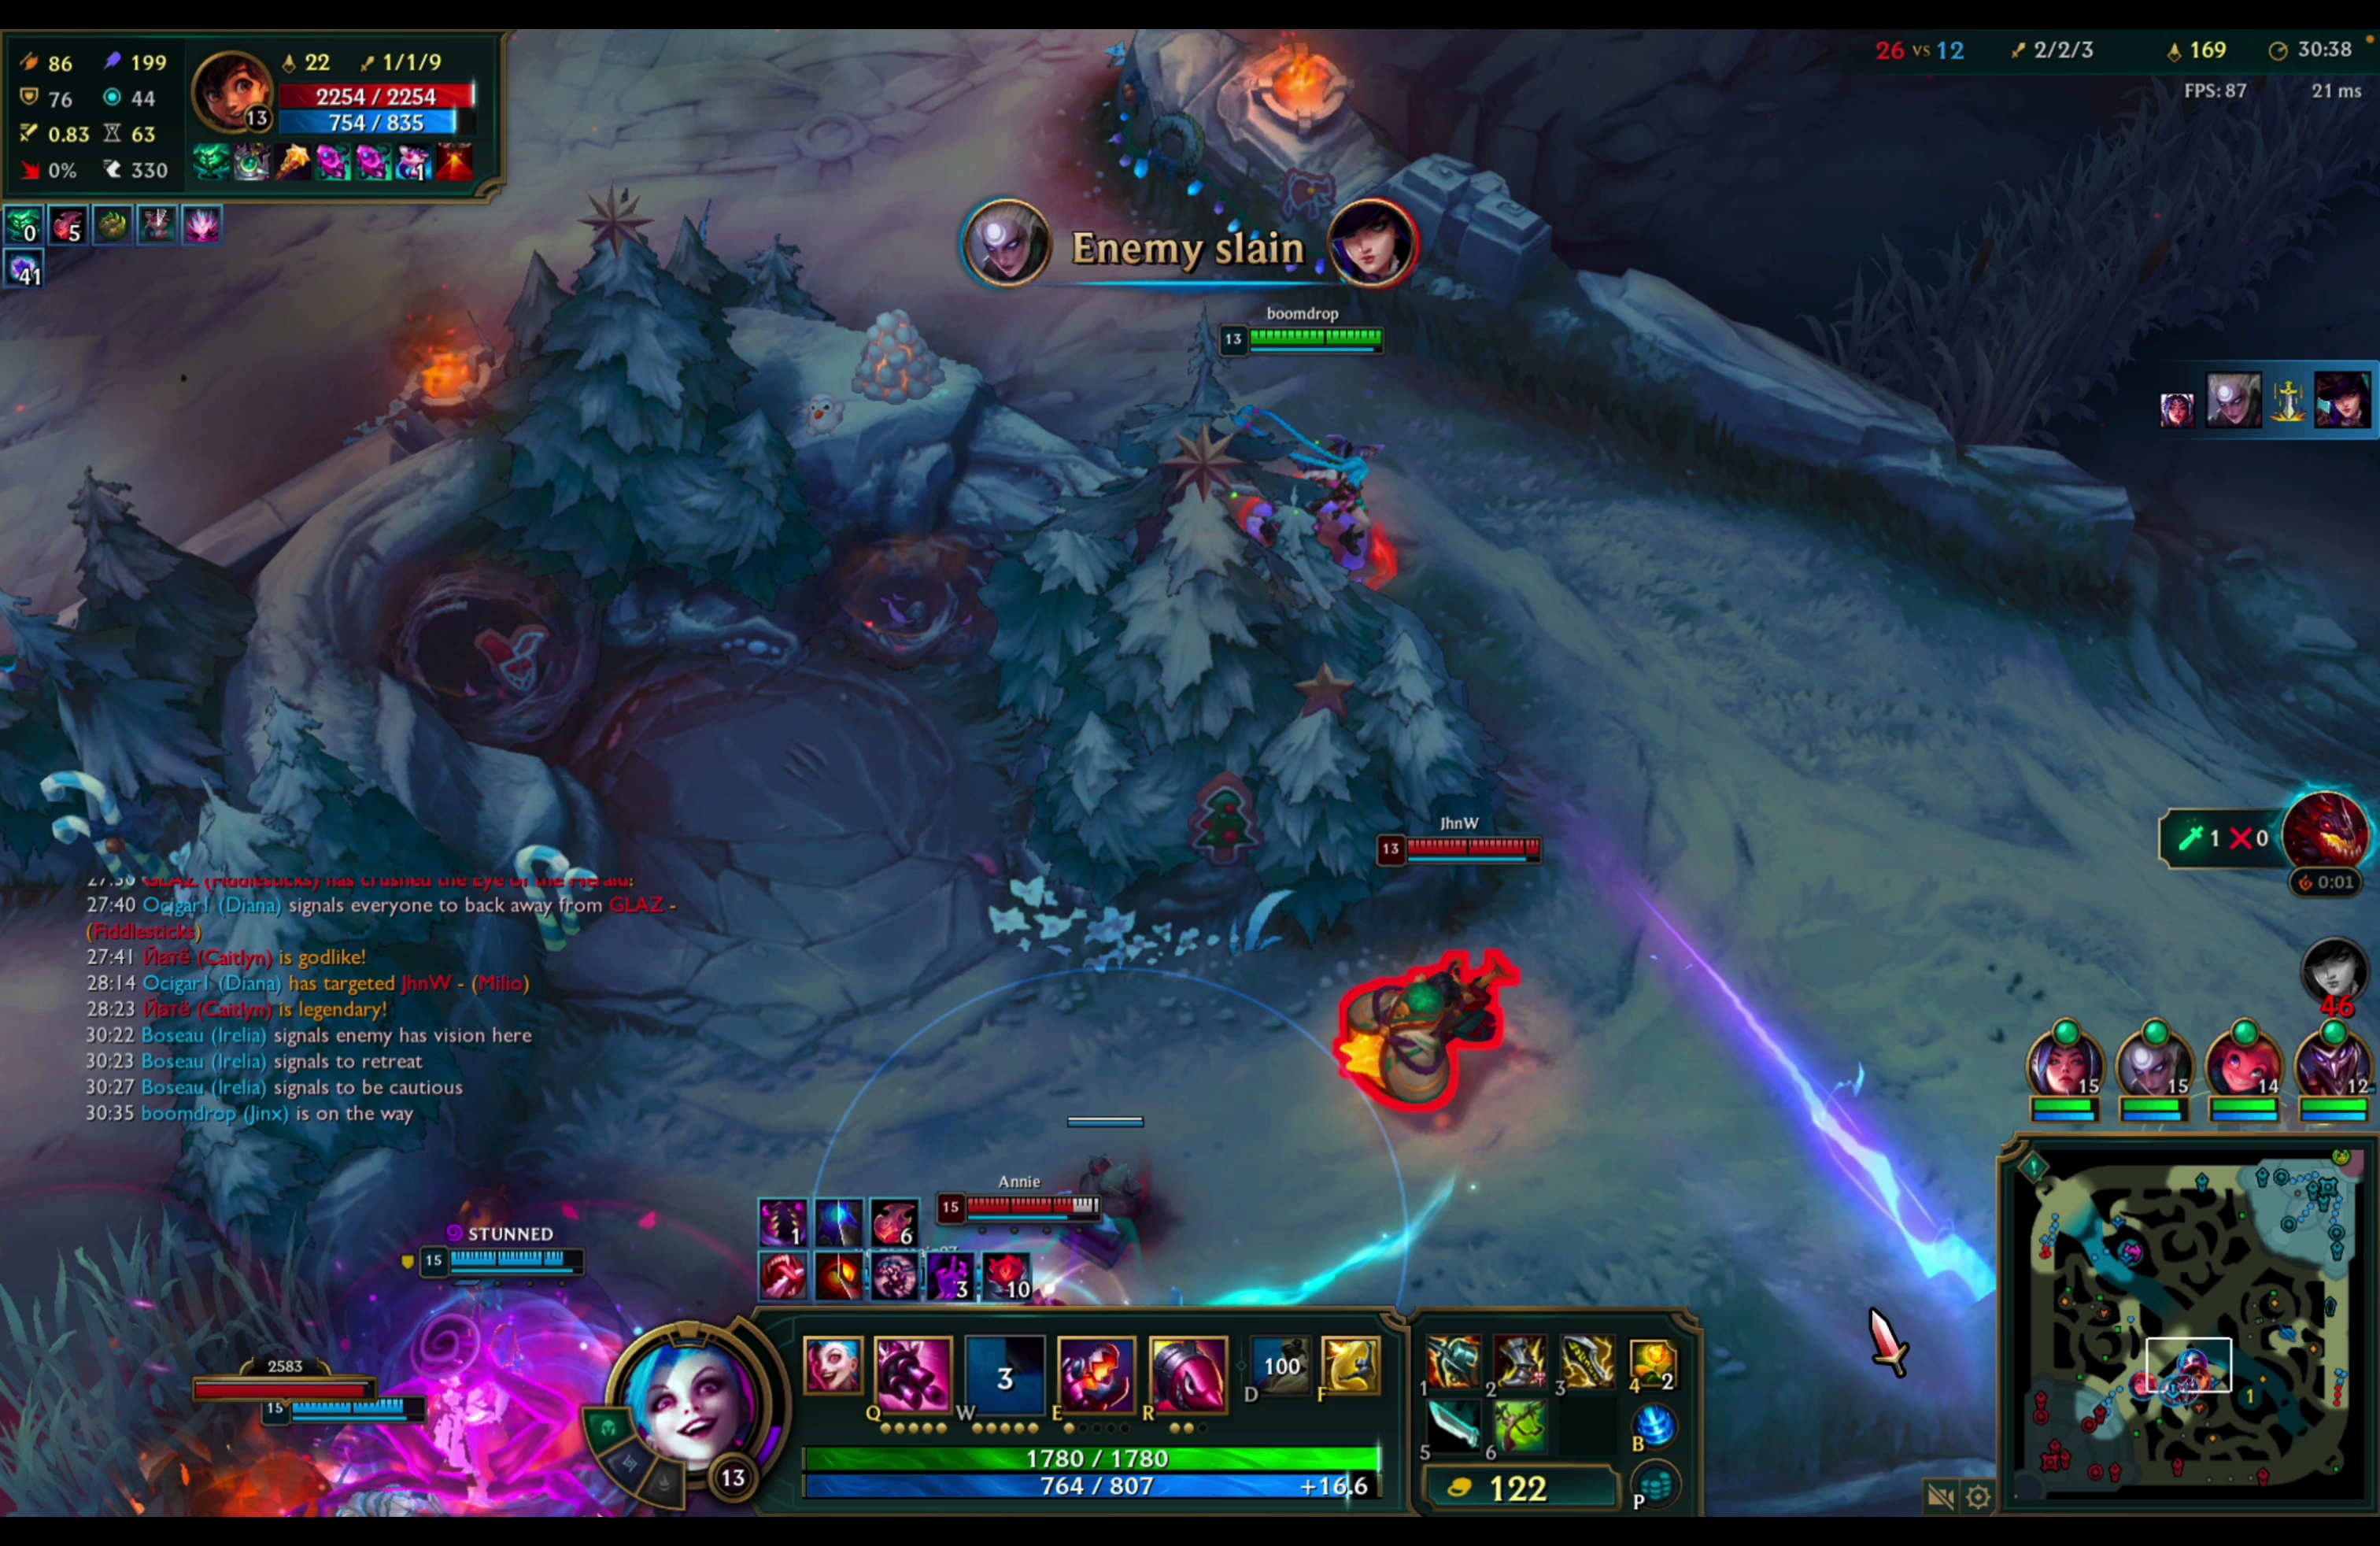JINX_W_PROJECTILE: (1202, 305, 2000, 1360)
